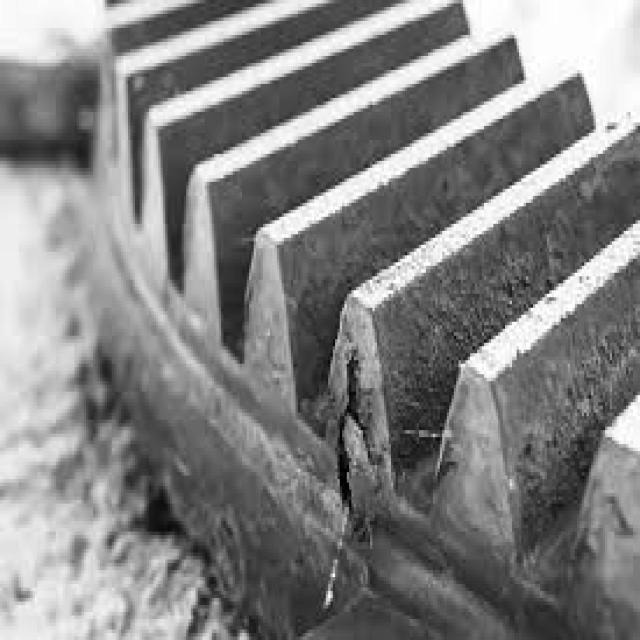Fault-Exist: (193, 69, 629, 637)
